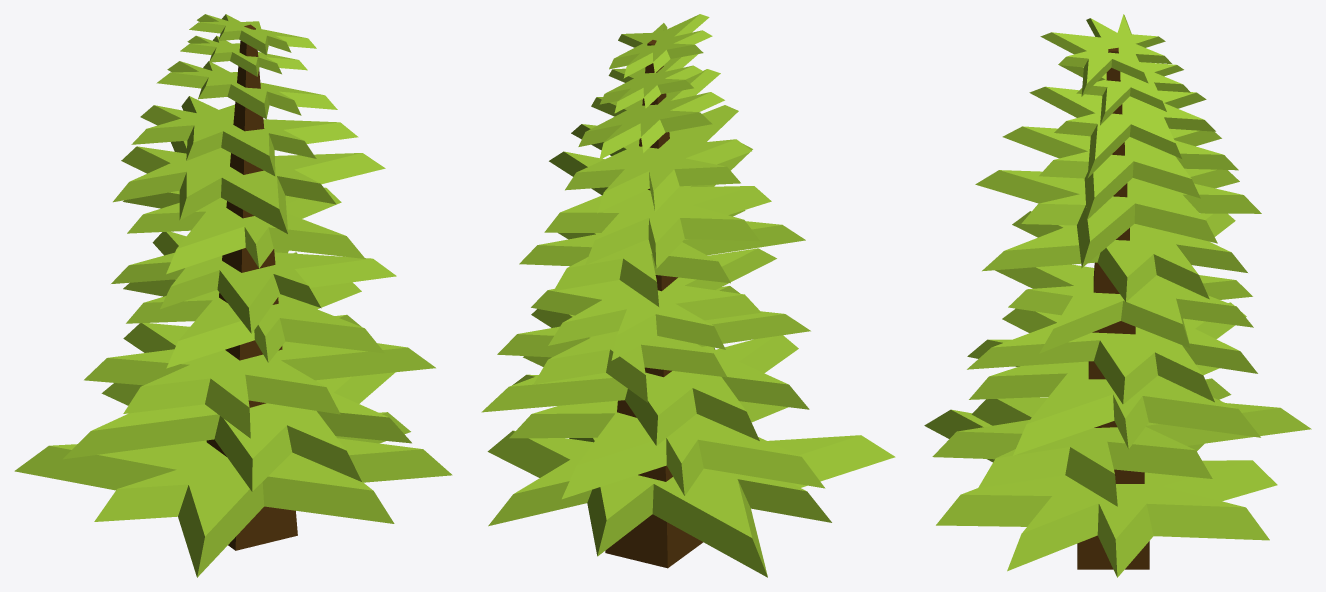
The model's file is Pines 5.fbx.
The picture shows the model from 3 angles, left to right: view 1: azimuth 30°, elevation 25°; view 2: azimuth 150°, elevation 25°; view 3: azimuth 270°, elevation 25°; orthographic projection.
Parts seen in each view (by area): view 1: Cube; view 2: Cube; view 3: Cube.
Part boxes in pixels (box(x1,y1,x2,y2)): Cube: box(14, 14, 452, 577); Cube: box(481, 14, 895, 577); Cube: box(924, 14, 1311, 577).
Size of the model in its own units: 481 by 691 by 469.
